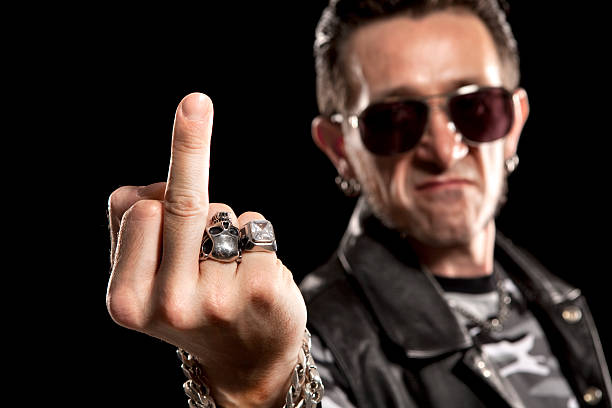insulting_gesture: (106, 88, 307, 382)
